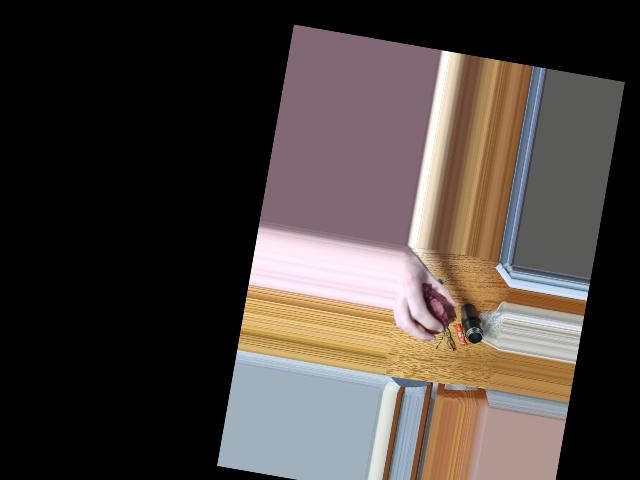onion: (412, 279, 457, 336)
